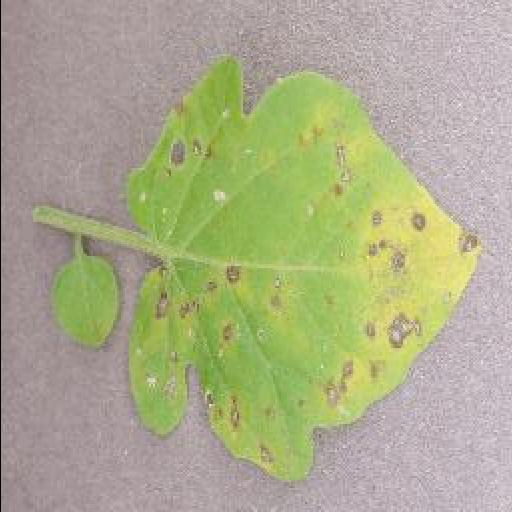disease_tomato: (126, 59, 484, 483)
